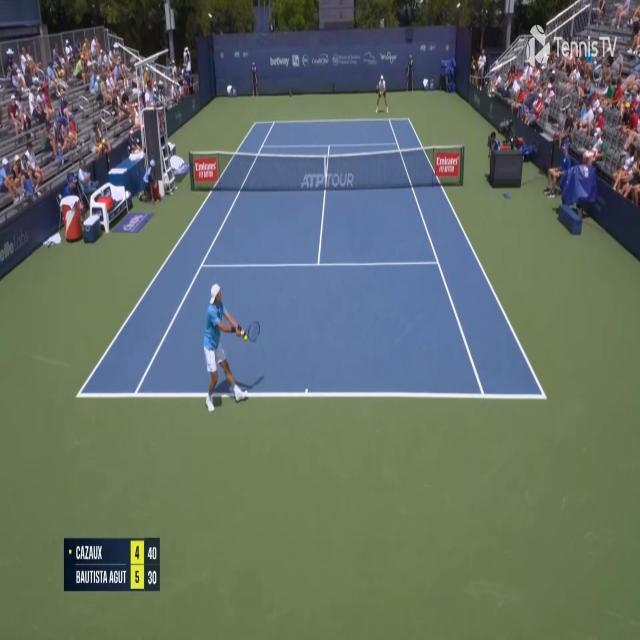tennis-player: (201, 277, 265, 418), (374, 74, 388, 114)
